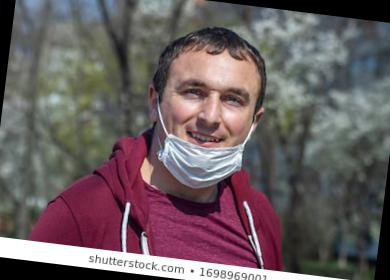mask_weared_incorrect: (155, 68, 258, 187)
